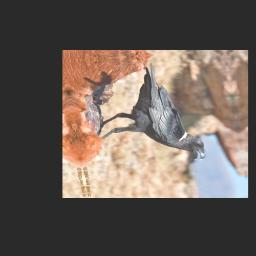Crow: (85, 59, 210, 167)
